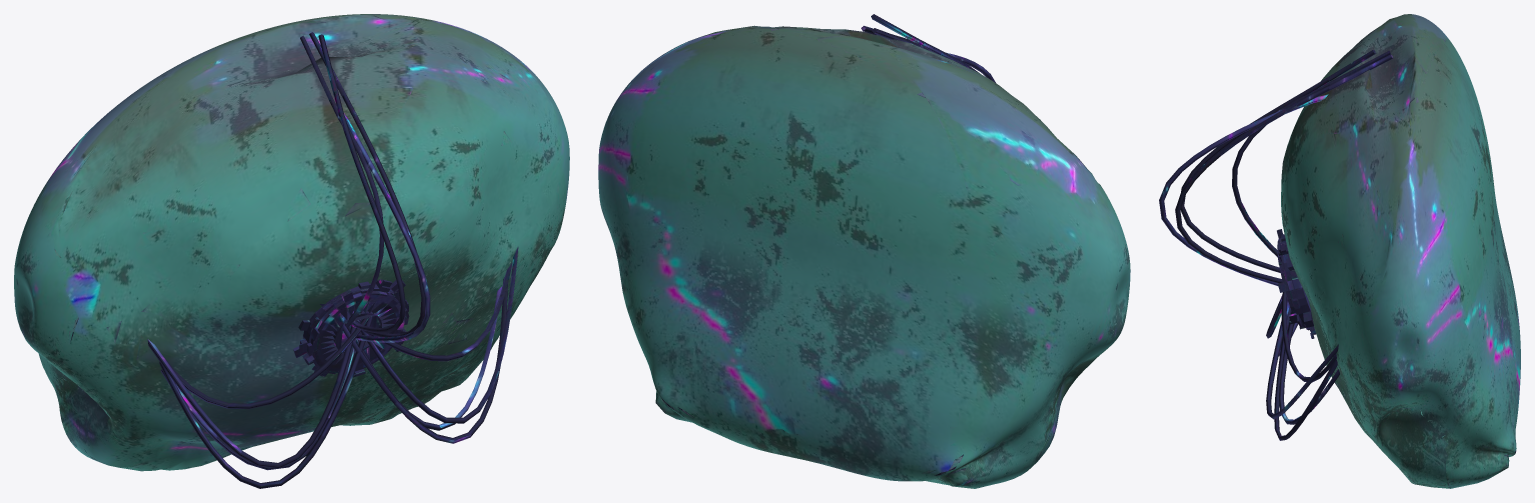
File: Entertainment_Occipital.glb
3 views of the same model, side by side, from view 1: azimuth 30°, elevation 25°; view 2: azimuth 150°, elevation 25°; view 3: azimuth 270°, elevation 25° (orthographic). The views are drawn at different scales.
Visible parts, largest first — view 1: Current, Case, Developing_tech, Potential, Ethical; view 2: Current, Case; view 3: Current, Case, Ethical, Potential.
Part boxes in pixels (left/top/right/bottom): Current: left=14, top=14, right=569, bottom=471; Case: left=300, top=32, right=430, bottom=342; Developing_tech: left=147, top=317, right=372, bottom=488; Potential: left=293, top=279, right=409, bottom=377; Ethical: left=343, top=247, right=518, bottom=443; Current: left=598, top=25, right=1130, bottom=488; Case: left=861, top=14, right=995, bottom=82; Current: left=1281, top=14, right=1520, bottom=488; Case: left=1159, top=50, right=1393, bottom=285; Ethical: left=1266, top=291, right=1339, bottom=440; Potential: left=1277, top=229, right=1315, bottom=338.
Bounding box in the file's own units: 1.35 × 1.03 × 0.8696.
Materials: 1 (1 with a texture image).
